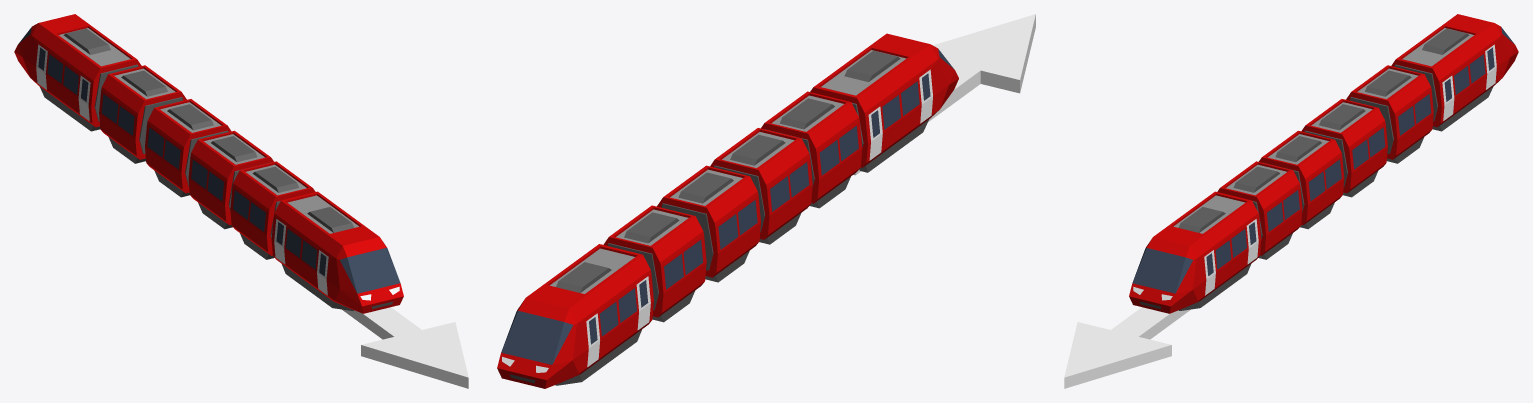
Rendered from Train Model.fbx.
3 renders of one model, left to right at view 1: azimuth 30°, elevation 25°; view 2: azimuth 150°, elevation 25°; view 3: azimuth 330°, elevation 25°, orthographic. The views are drawn at different scales.
Parts seen in each view (by area): view 1: HST-Chibi-Front, HST-Chibi-Front (1), SwitchArrow-Straight, HST-Chibi-Wagon (3), HST-Chibi-Wagon (2), HST-Chibi-Wagon (1), HST-Chibi-Wagon; view 2: HST-Chibi-Front (1), HST-Chibi-Front, HST-Chibi-Wagon (2), HST-Chibi-Wagon (3), HST-Chibi-Wagon (1), HST-Chibi-Wagon, SwitchArrow-Straight; view 3: HST-Chibi-Front, HST-Chibi-Front (1), SwitchArrow-Straight, HST-Chibi-Wagon (3), HST-Chibi-Wagon (2), HST-Chibi-Wagon (1), HST-Chibi-Wagon.
Boxes of the visible parts, x1,y1,x2,y2 form: HST-Chibi-Front: (271,191,403,313); HST-Chibi-Front (1): (14,14,141,131); SwitchArrow-Straight: (342,307,468,388); HST-Chibi-Wagon (3): (99,65,186,163); HST-Chibi-Wagon (2): (145,99,231,197); HST-Chibi-Wagon (1): (188,130,273,229); HST-Chibi-Wagon: (230,161,315,259); HST-Chibi-Front (1): (497,244,653,388); HST-Chibi-Front: (810,33,958,172); HST-Chibi-Wagon (2): (657,165,760,282); HST-Chibi-Wagon (3): (603,205,706,322); HST-Chibi-Wagon (1): (710,128,812,244); HST-Chibi-Wagon: (761,91,862,208); SwitchArrow-Straight: (853,14,1035,175); HST-Chibi-Front: (1129,191,1261,313); HST-Chibi-Front (1): (1391,14,1518,131); SwitchArrow-Straight: (1064,307,1190,388); HST-Chibi-Wagon (3): (1346,65,1433,163); HST-Chibi-Wagon (2): (1301,99,1387,197); HST-Chibi-Wagon (1): (1259,130,1344,229); HST-Chibi-Wagon: (1217,161,1302,259).
Bounding box in the file's own units: 0.6557 × 0.4703 × 5.22.
